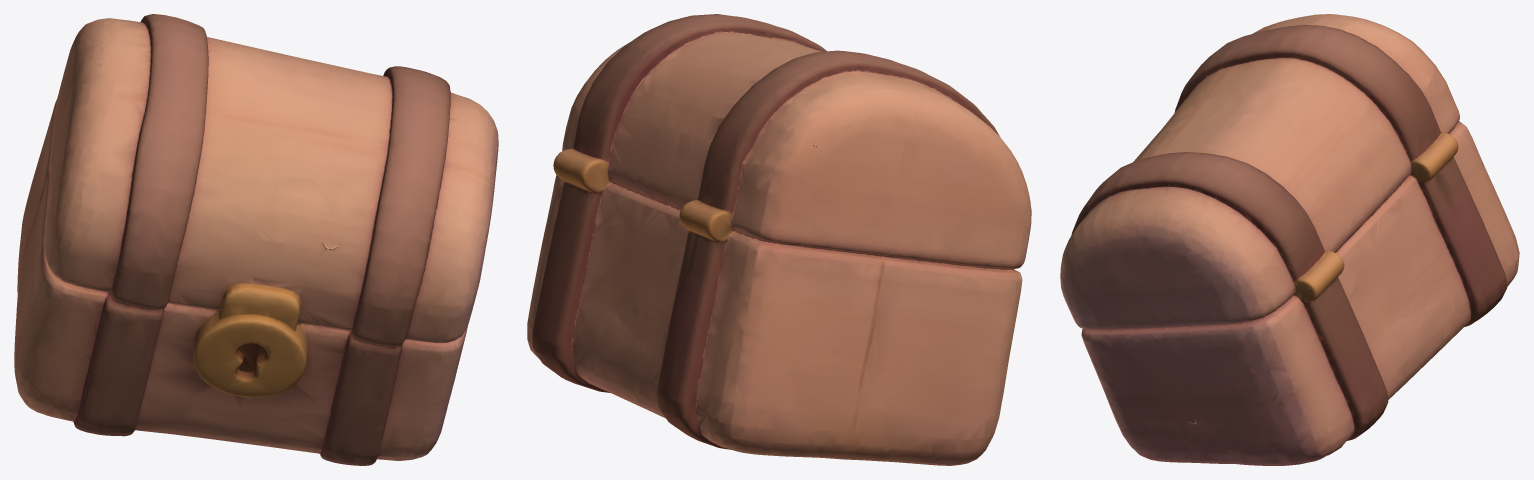
Rendered from storage_chest.glb.
The picture shows the model from 3 angles, left to right: view 1: azimuth 30°, elevation 25°; view 2: azimuth 150°, elevation 25°; view 3: azimuth 270°, elevation 25°; orthographic projection. The views are drawn at different scales.
Size of the model in its own units: 0.8919 by 0.7848 by 0.9045.
Materials: 1 (1 with a texture image).
